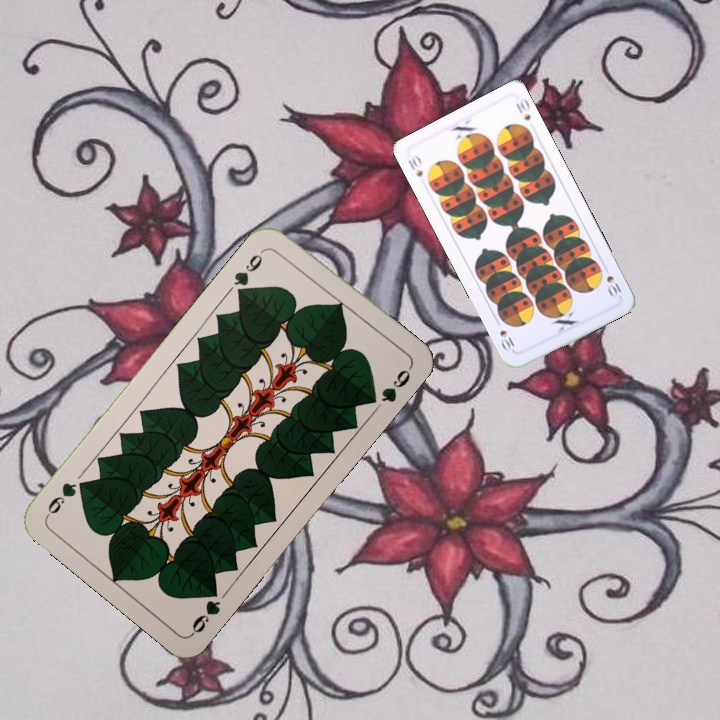G9: (229, 244, 269, 299), (188, 581, 223, 637)
S10: (599, 261, 626, 300), (404, 151, 425, 180)
